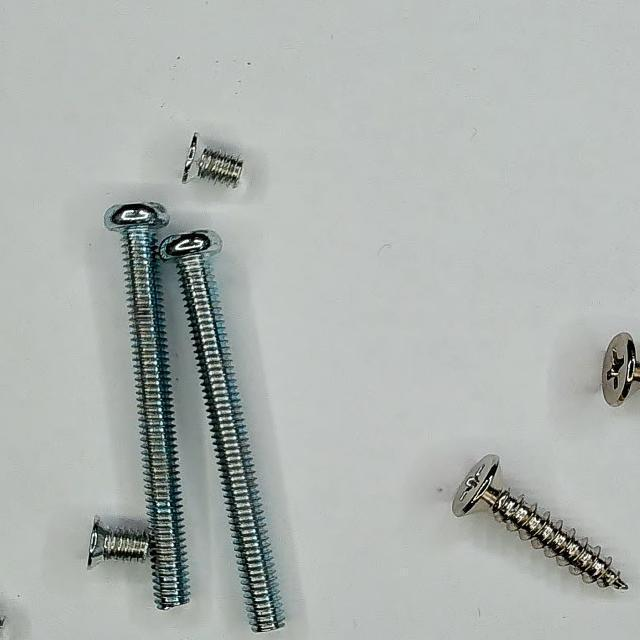Screw: (159, 230, 285, 634), (104, 203, 190, 610), (453, 456, 629, 590), (182, 132, 244, 188), (87, 517, 149, 568), (604, 333, 640, 407)
